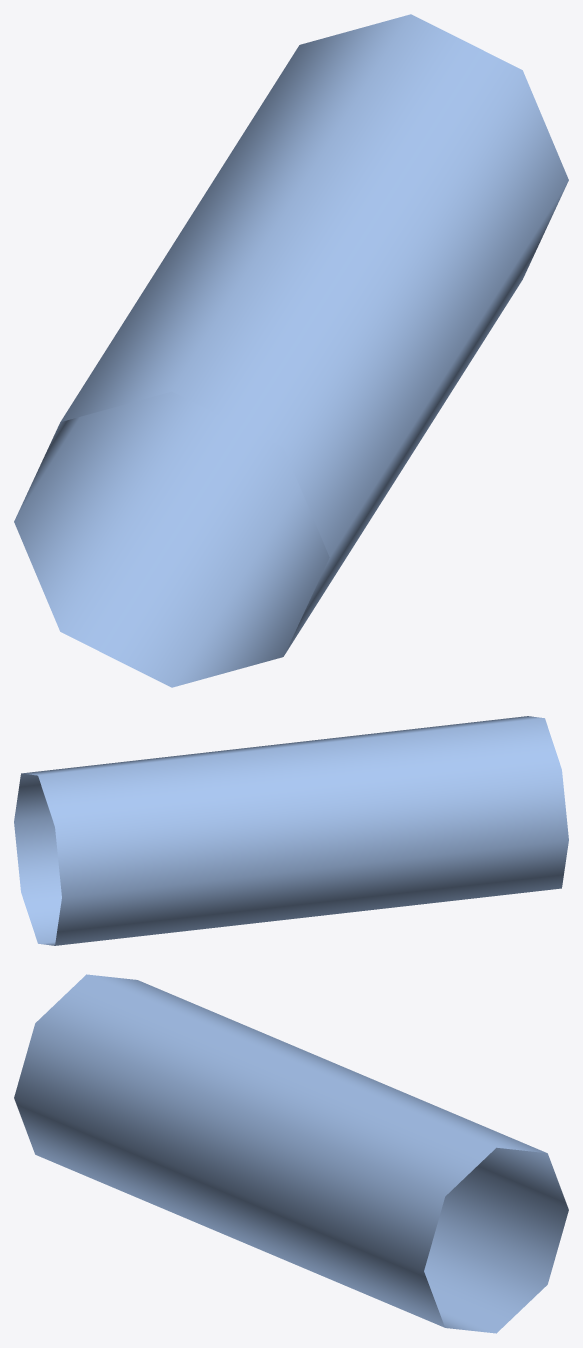
Rendered from PipeSmall_StraightDiagonal_03.fbx.
3 renders of one model, top to bottom at view 1: azimuth 30°, elevation 25°; view 2: azimuth 150°, elevation 25°; view 3: azimuth 270°, elevation 25°, orthographic. The views are drawn at different scales.
Visible parts, largest first — view 1: PipeSmall_StraightDiagonal_03.001; view 2: PipeSmall_StraightDiagonal_03.001; view 3: PipeSmall_StraightDiagonal_03.001.
Boxes of the visible parts, <box> form: PipeSmall_StraightDiagonal_03.001: <box>14,14,568,687</box>; PipeSmall_StraightDiagonal_03.001: <box>14,716,568,945</box>; PipeSmall_StraightDiagonal_03.001: <box>14,974,568,1333</box>.
Size of the model in its own units: 0.2707 by 0.1 by 0.2707.
